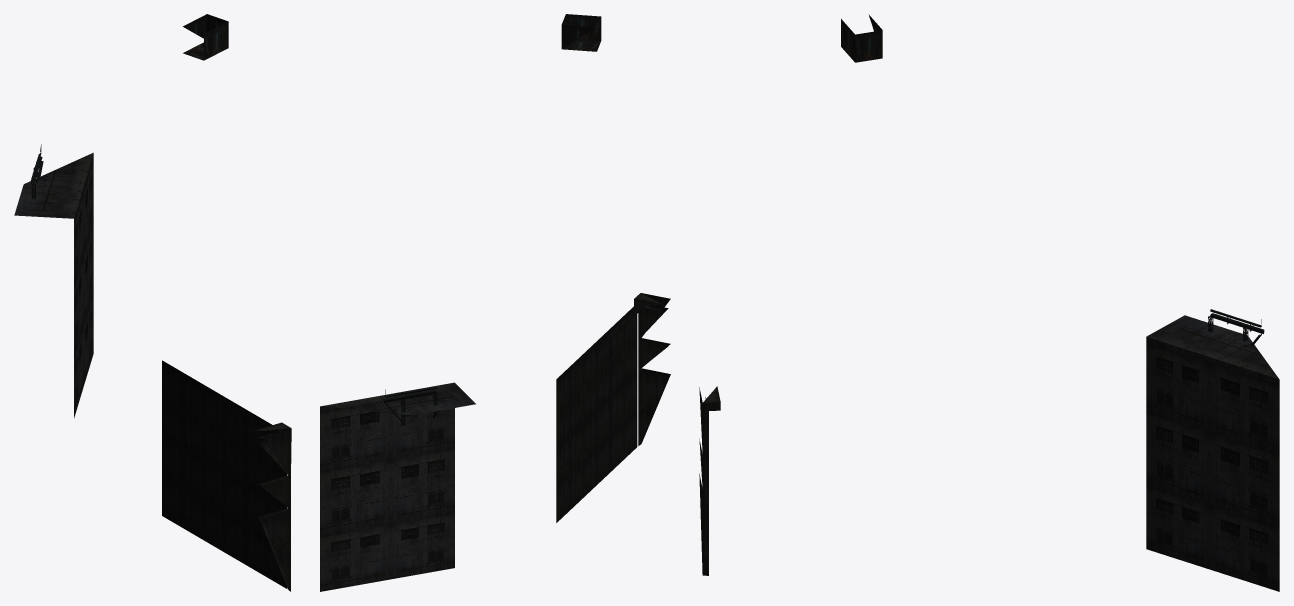
Rendered from cell_10_2.gltf.
The picture shows the model from 3 angles, left to right: view 1: azimuth 30°, elevation 25°; view 2: azimuth 150°, elevation 25°; view 3: azimuth 270°, elevation 25°; orthographic projection. The views are drawn at different scales.
Visible parts, largest first — view 1: cell_10_2; view 2: cell_10_2; view 3: cell_10_2.
Part boxes in pixels (x1,y1,x2,y2): cell_10_2: (14, 14, 291, 591); cell_10_2: (320, 14, 670, 591); cell_10_2: (699, 14, 1279, 591).
Bounding box in the file's own units: 23.81 × 94.39 × 90.86.
Materials: 6 (6 with a texture image).
